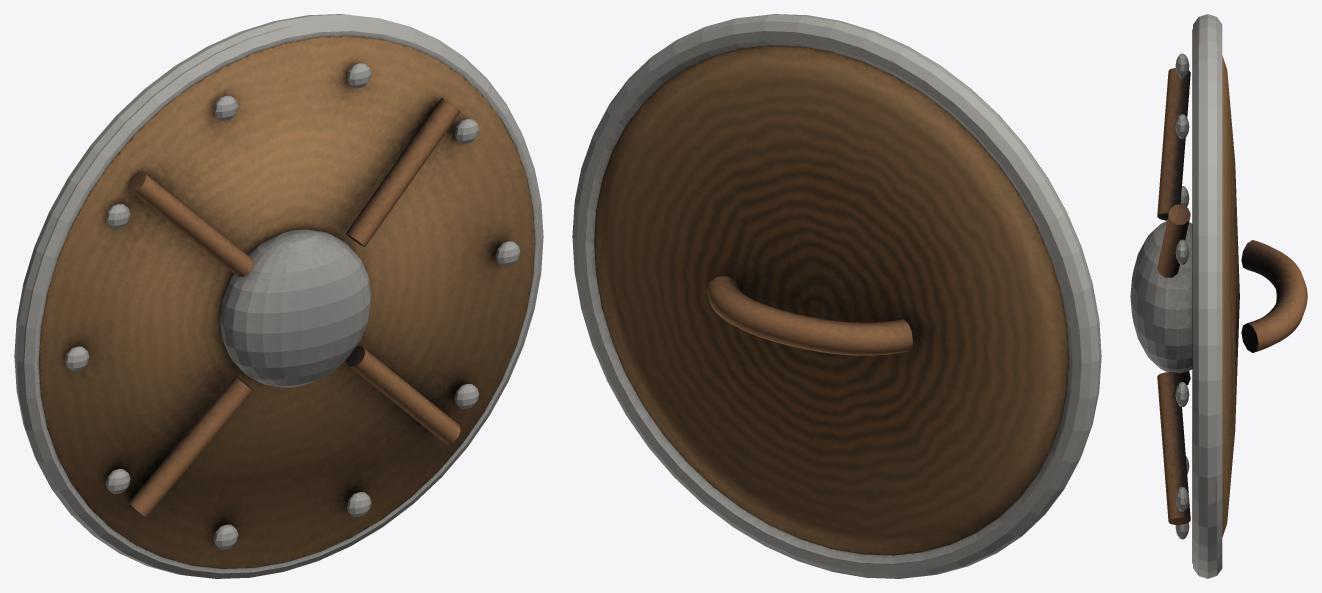
The model's file is arma_broquel_tabuas.glb.
3 views of the same model, side by side, from view 1: azimuth 30°, elevation 25°; view 2: azimuth 150°, elevation 25°; view 3: azimuth 270°, elevation 25° (orthographic). The views are drawn at different scales.
Visible parts, largest first — view 1: arma_broquel_tabuas; view 2: arma_broquel_tabuas; view 3: arma_broquel_tabuas.
Boxes of the visible parts, x1,y1,x2,y2 form: arma_broquel_tabuas: [14, 14, 543, 578]; arma_broquel_tabuas: [572, 14, 1101, 578]; arma_broquel_tabuas: [1130, 14, 1307, 578].
Size of the model in its own units: 0.402 by 0.402 by 0.126.
1 material, 1 textured.
